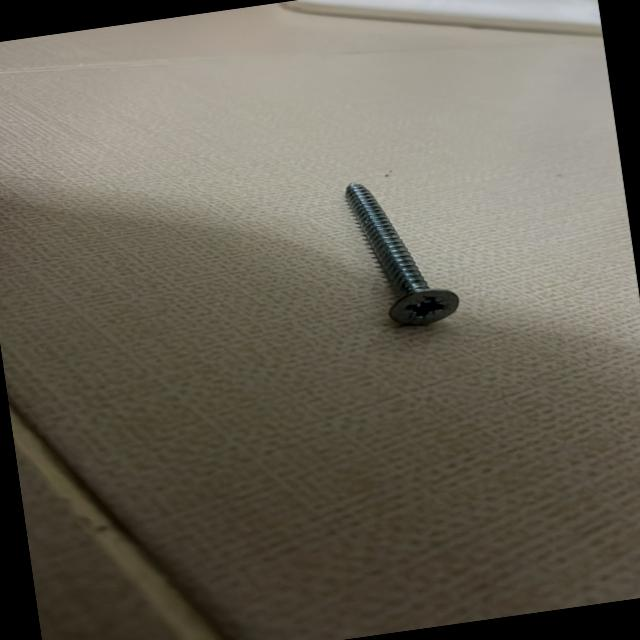Pozidriv: (392, 285, 466, 335)
